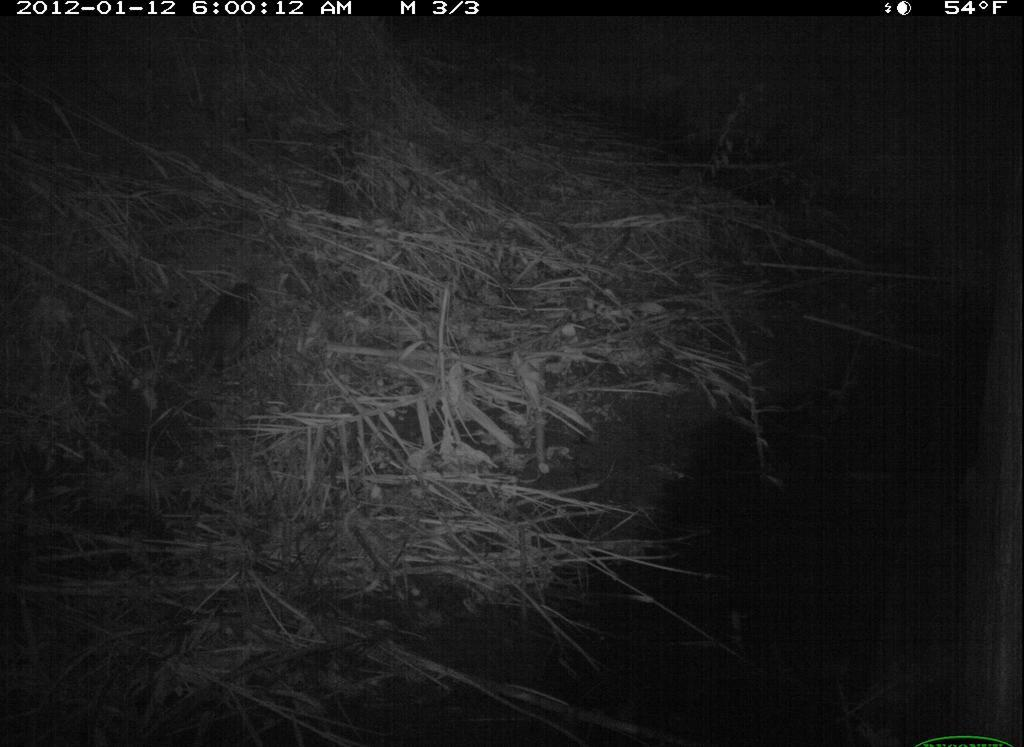opossum: (188, 273, 276, 378)
